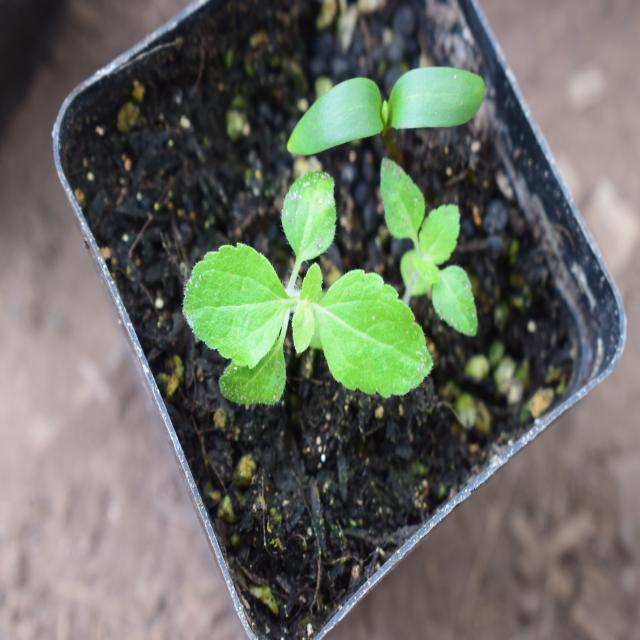billygoat_weed: (186, 176, 423, 418), (364, 163, 479, 340)
